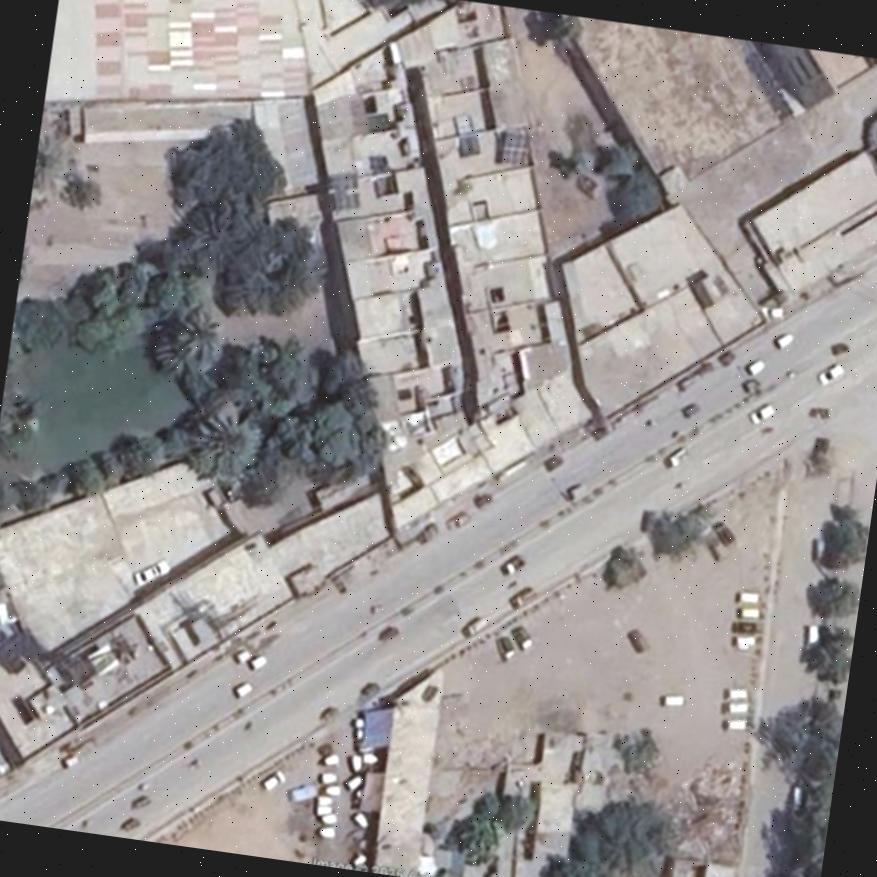Solarpanel: (498, 128, 529, 163)
